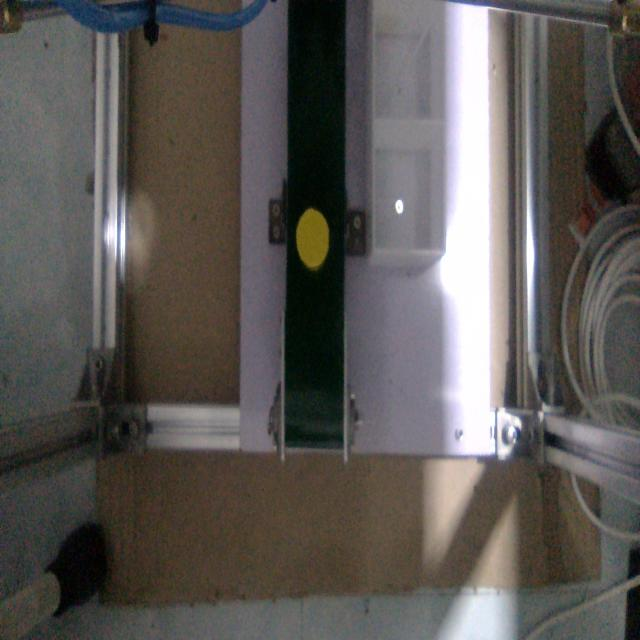YelCir: (294, 197, 332, 280)
